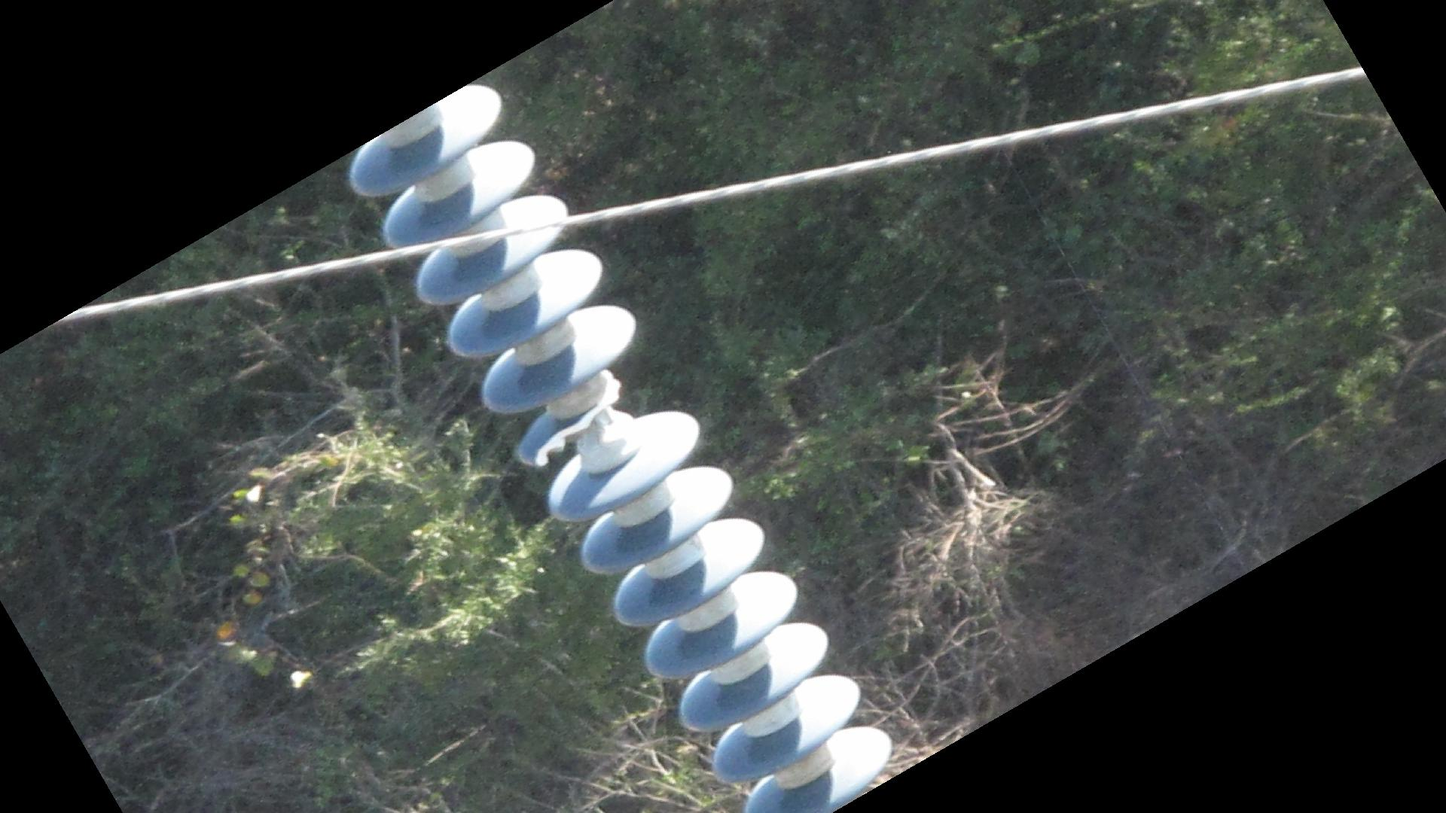insulator: (343, 78, 901, 813)
insulator_breakage: (528, 367, 628, 470)
